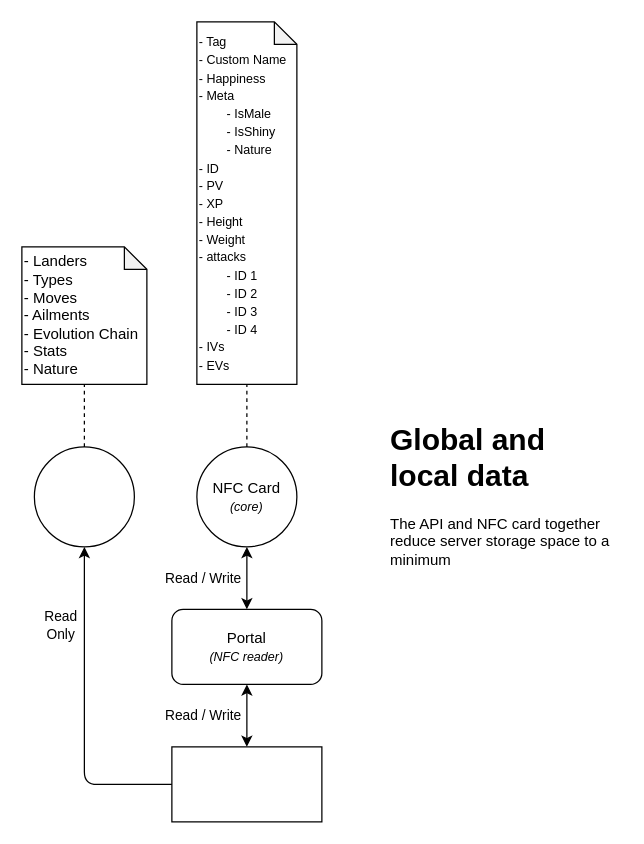
The diagram is 644 pixels wide and 844 high, and some of its shapes have lost their labels. Each missing label, with the centre of its shape:
API Web (LandAPI): (83,496)
PokeLander FIGHT (Game exemple): (246,784)
